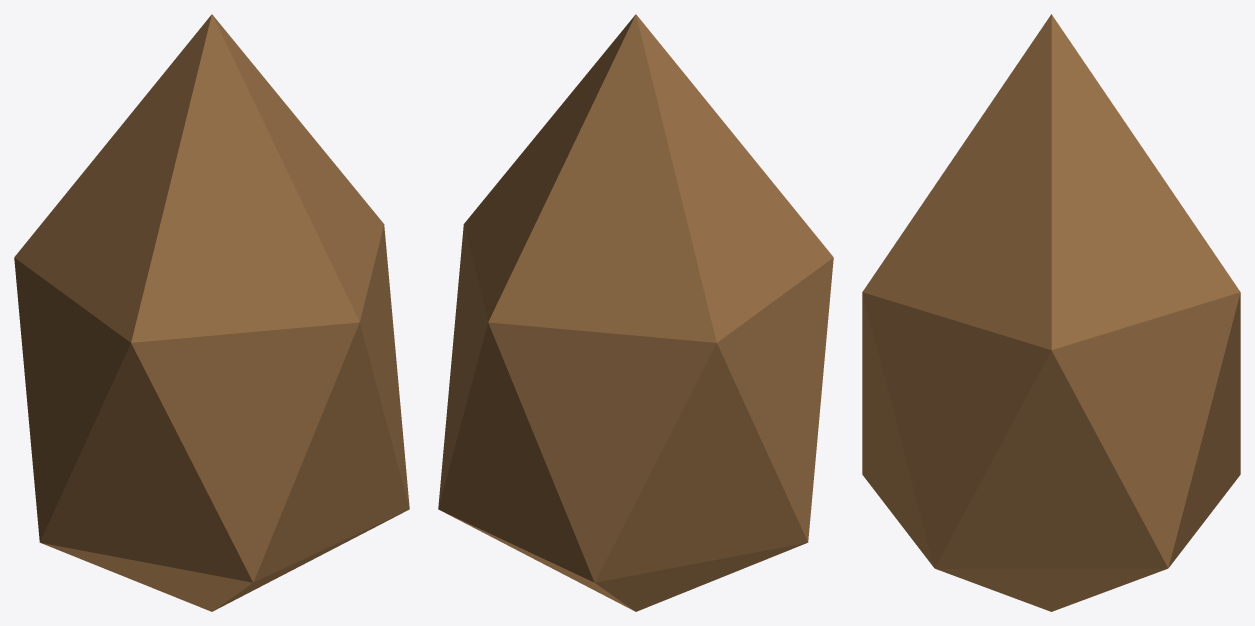
Rendered from seed3.fbx.
3 renders of one model, left to right at view 1: azimuth 30°, elevation 25°; view 2: azimuth 150°, elevation 25°; view 3: azimuth 270°, elevation 25°, orthographic.
Parts seen in each view (by area): view 1: Icosphere; view 2: Icosphere; view 3: Icosphere.
Part boxes in pixels (<box>): Icosphere: <box>14,14,409,611</box>; Icosphere: <box>438,14,833,611</box>; Icosphere: <box>862,14,1240,611</box>.
Size of the model in its own units: 179 by 297 by 170.
